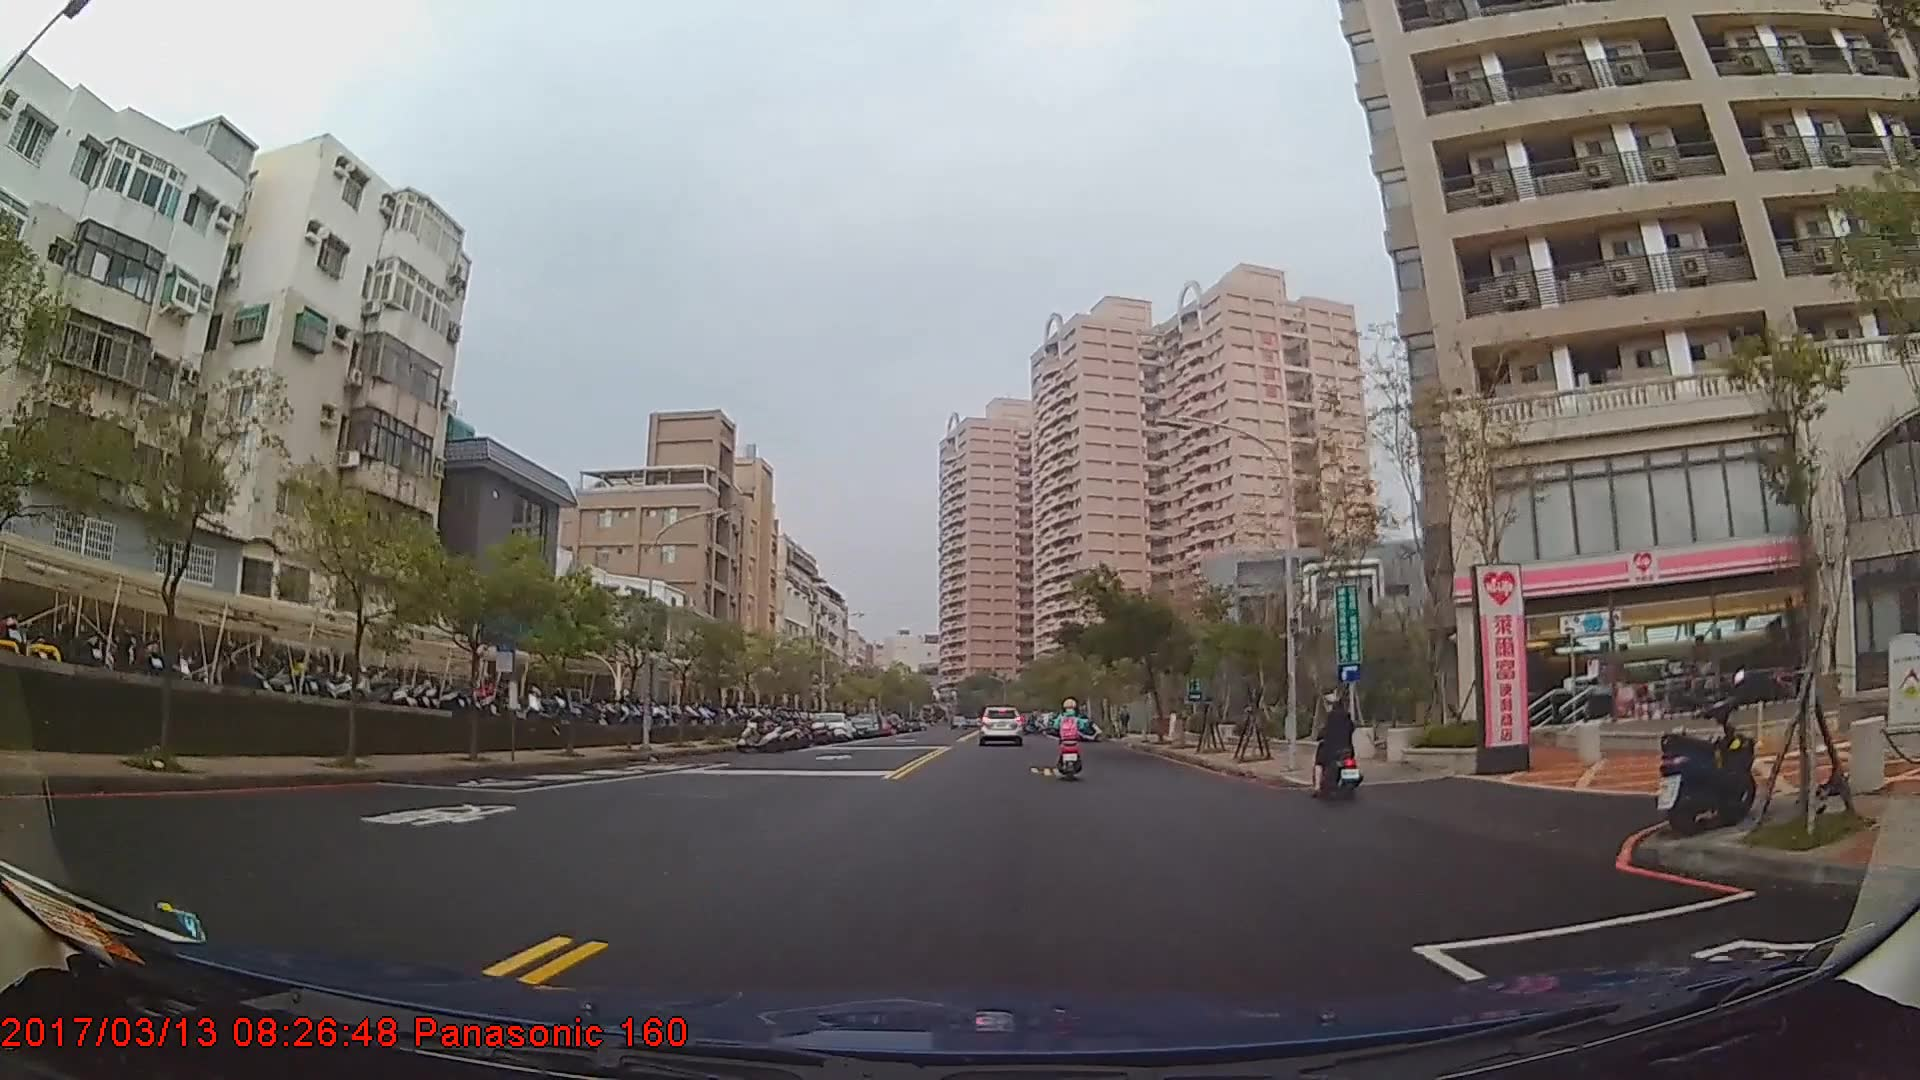rider: (1312, 689, 1364, 796), (1054, 699, 1091, 781)
vehicle: (974, 704, 1025, 743), (810, 713, 851, 742)
